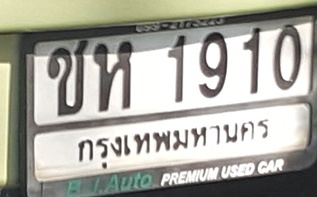txt08: (46, 39, 91, 118)
txt36: (91, 39, 135, 112)
